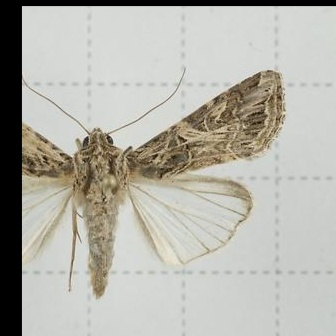Spodoptera litura: (21, 67, 286, 298)
